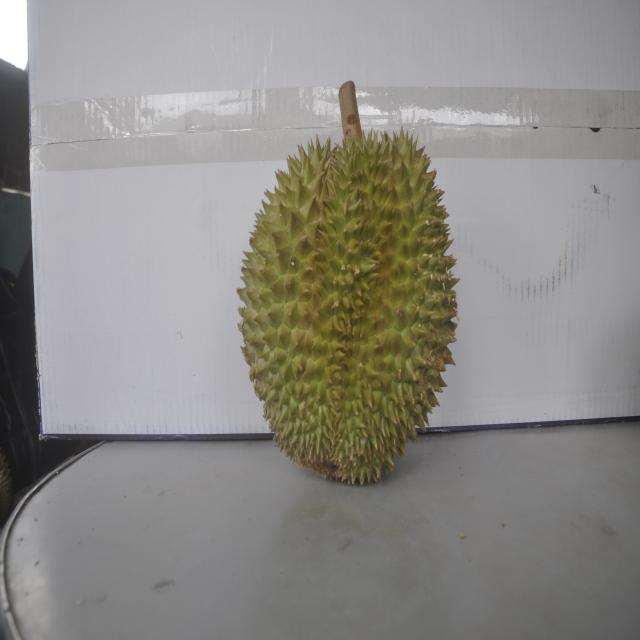mature: (238, 108, 453, 484)
